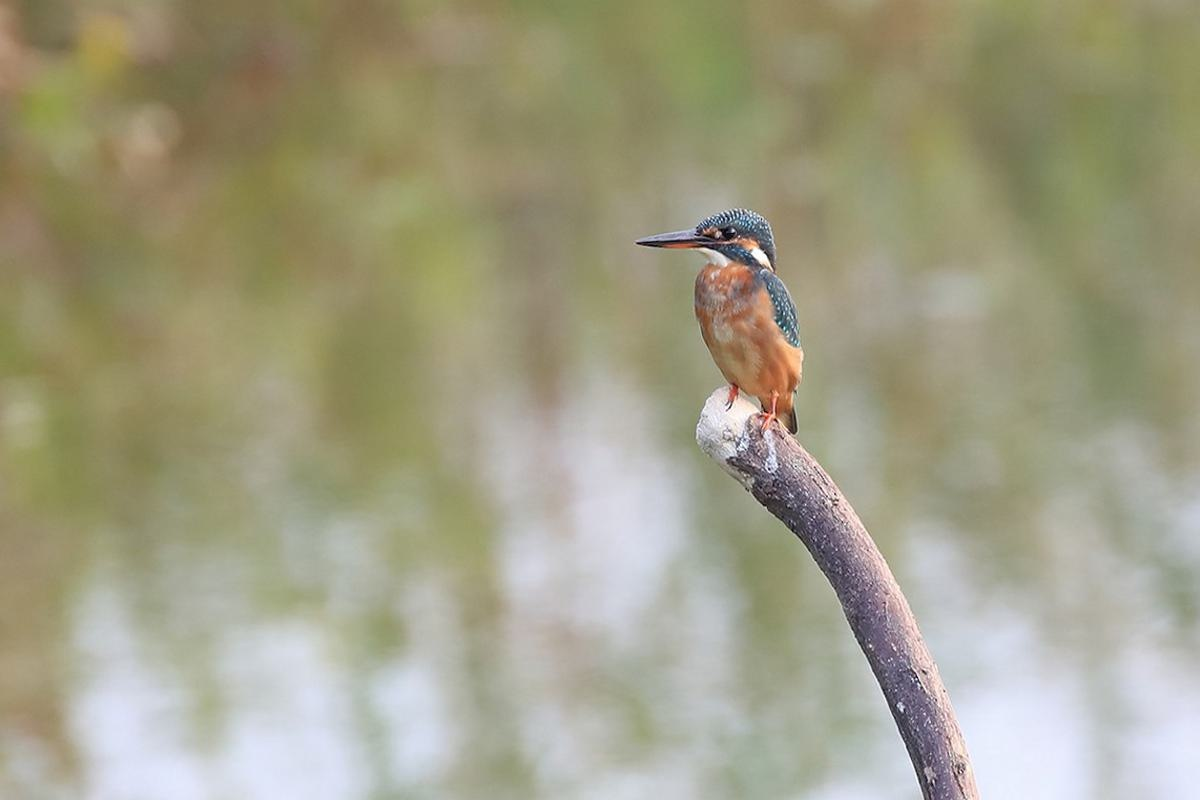kingfisher: (635, 193, 839, 448)
